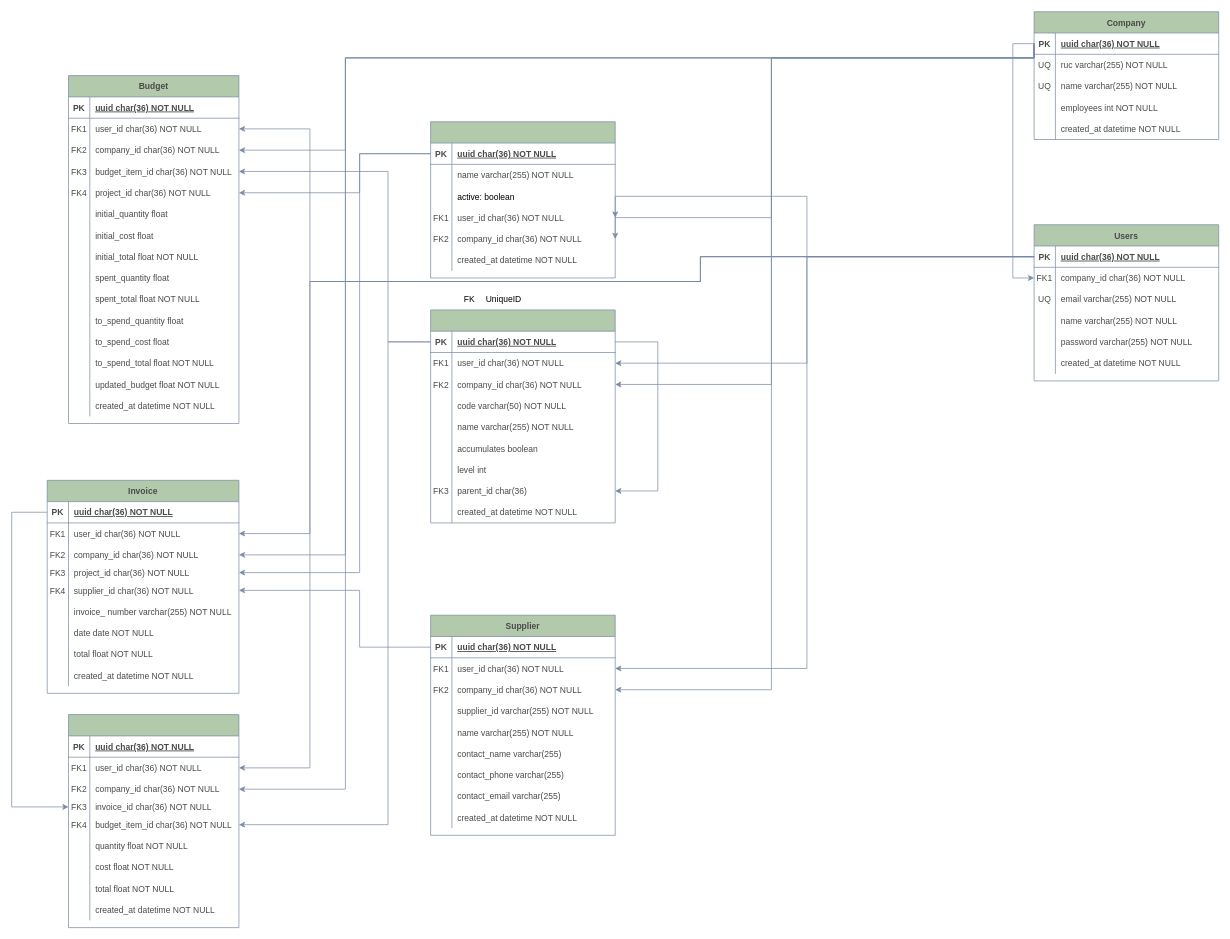
Some shapes in this 1230 by 939 pixel diagram are drawn without their labels. The shapes that lost their labels are listed below. From the top down, each one's box as (x1, y1, x2, y2) in pixels, then its label:
(430, 121, 615, 278): Project
(430, 309, 615, 523): Budget Items
(68, 714, 239, 928): Invoice Detail
